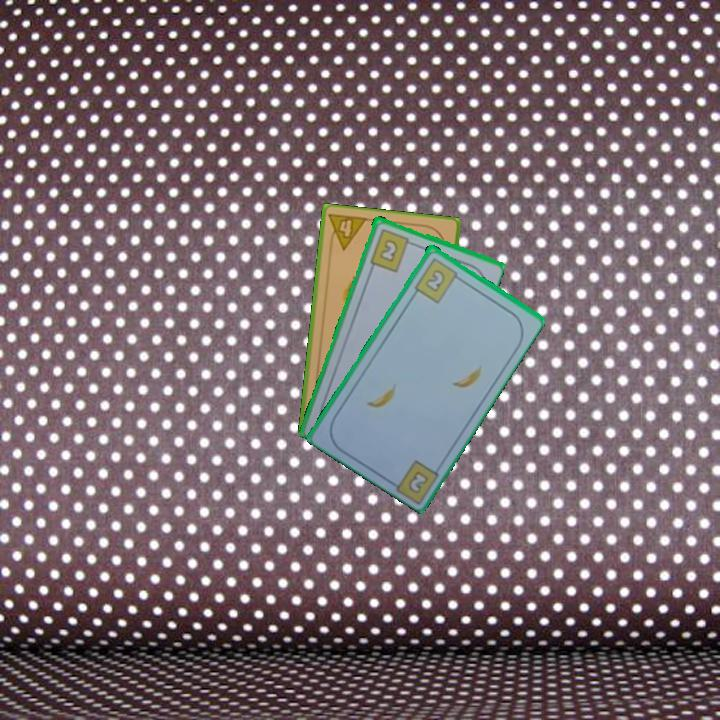2b: (411, 254, 465, 306), (366, 225, 417, 274), (404, 467, 431, 496)
4p: (325, 211, 370, 253)
